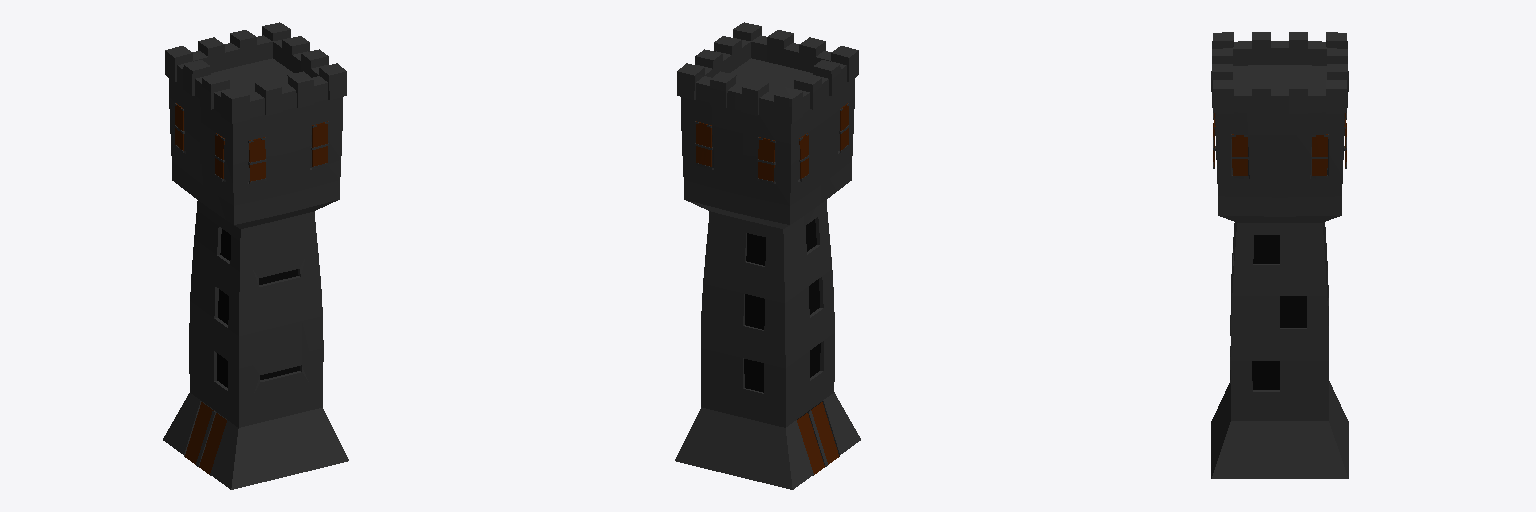
Rendered from tower_lvl1.obj.
3 views of the same model, side by side, from view 1: azimuth 30°, elevation 25°; view 2: azimuth 150°, elevation 25°; view 3: azimuth 270°, elevation 25° (orthographic).
Visible parts, largest first — view 1: lvl1_export.001_Cube.002, lvl1_export.002_Cube.003, lvl1_export_Cube.000; view 2: lvl1_export.001_Cube.002, lvl1_export.002_Cube.003, lvl1_export_Cube.000; view 3: lvl1_export.001_Cube.002, lvl1_export_Cube.000, lvl1_export.002_Cube.003.
Boxes of the visible parts, x1,y1,x2,y2 form: lvl1_export.001_Cube.002: [163, 22, 348, 489]; lvl1_export.002_Cube.003: [175, 103, 327, 474]; lvl1_export_Cube.000: [217, 229, 299, 387]; lvl1_export.001_Cube.002: [675, 22, 860, 489]; lvl1_export.002_Cube.003: [696, 103, 848, 474]; lvl1_export_Cube.000: [744, 219, 820, 392]; lvl1_export.001_Cube.002: [1211, 32, 1348, 478]; lvl1_export_Cube.000: [1252, 235, 1306, 389]; lvl1_export.002_Cube.003: [1213, 113, 1346, 175].
Bounding box in the file's own units: 0.2876 × 0.9108 × 0.2889.